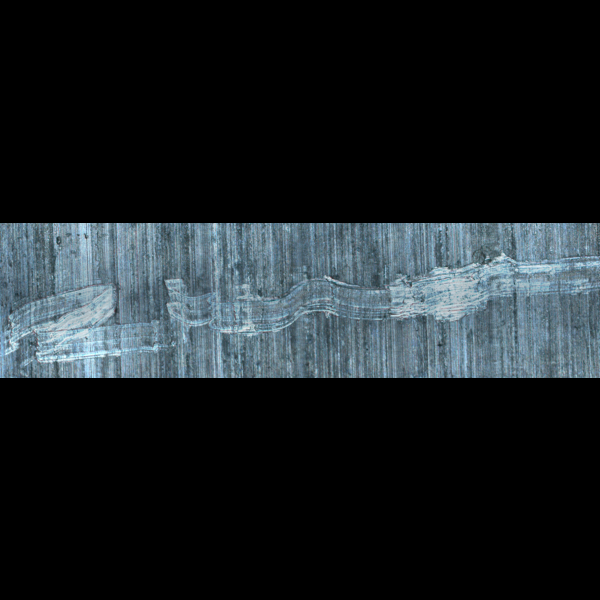d: (3, 244, 600, 368)
